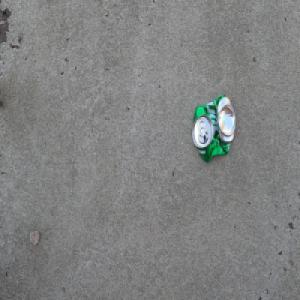SodaCan: (191, 94, 235, 163)
